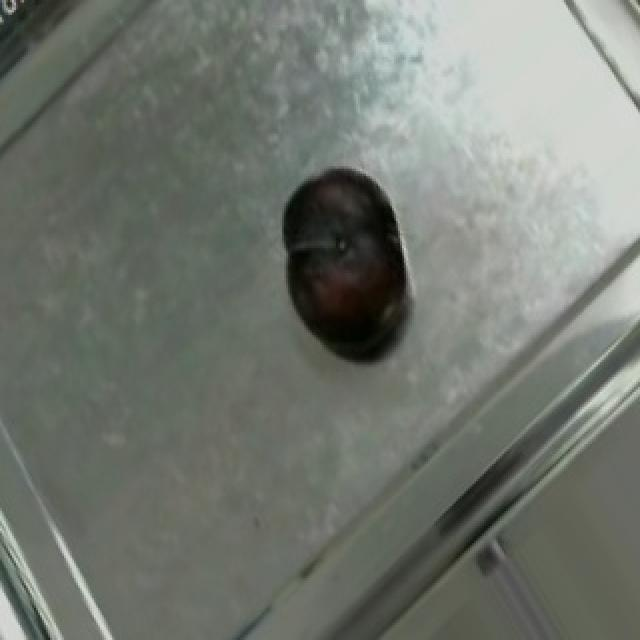Fruit: (266, 158, 422, 370)
